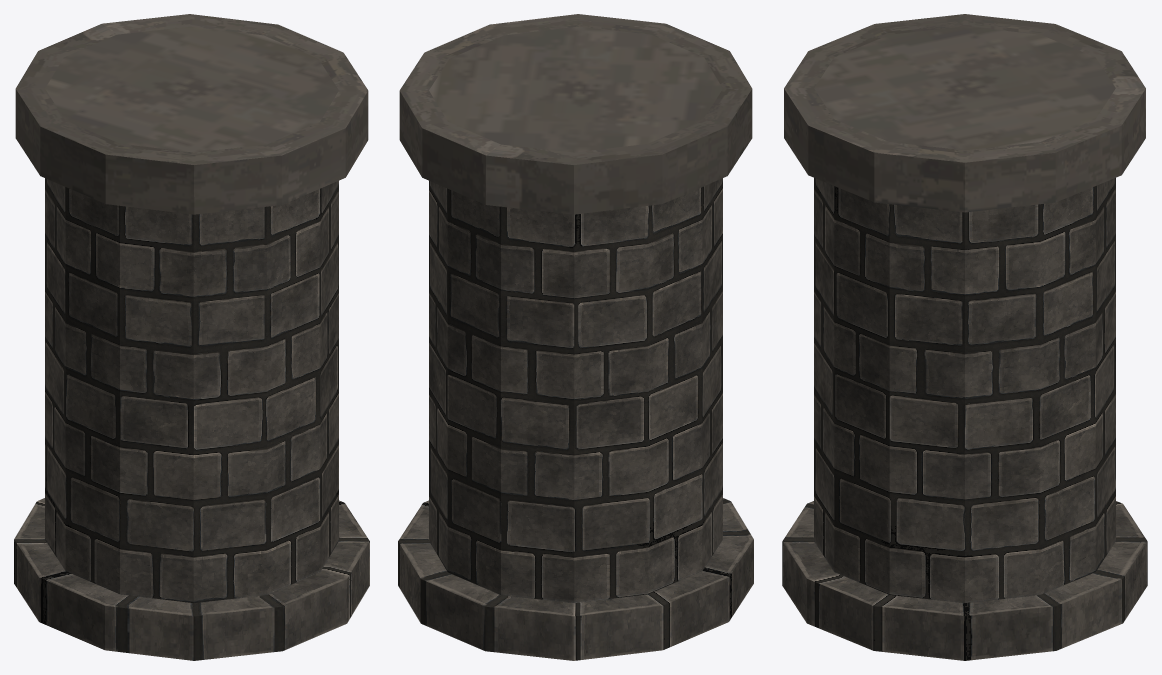
File: CircularPillar01.fbx
3 views of the same model, side by side, from view 1: azimuth 30°, elevation 25°; view 2: azimuth 150°, elevation 25°; view 3: azimuth 270°, elevation 25° (orthographic).
Parts seen in each view (by area): view 1: Cylinder; view 2: Cylinder; view 3: Cylinder.
Boxes of the visible parts, <box> form: Cylinder: <box>14,14,369,660</box>; Cylinder: <box>398,14,753,660</box>; Cylinder: <box>782,14,1147,660</box>.
Size of the model in its own units: 1.29 by 2 by 1.33.
1 material, 1 textured.
